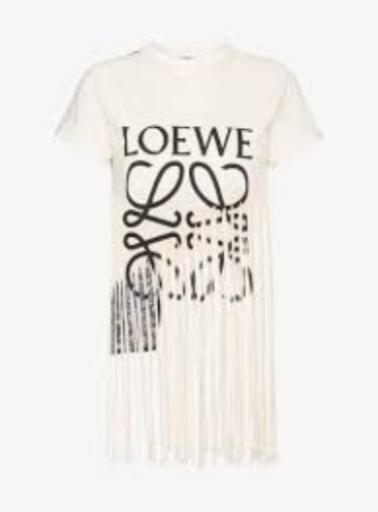LOEWE: (112, 115, 269, 313)
